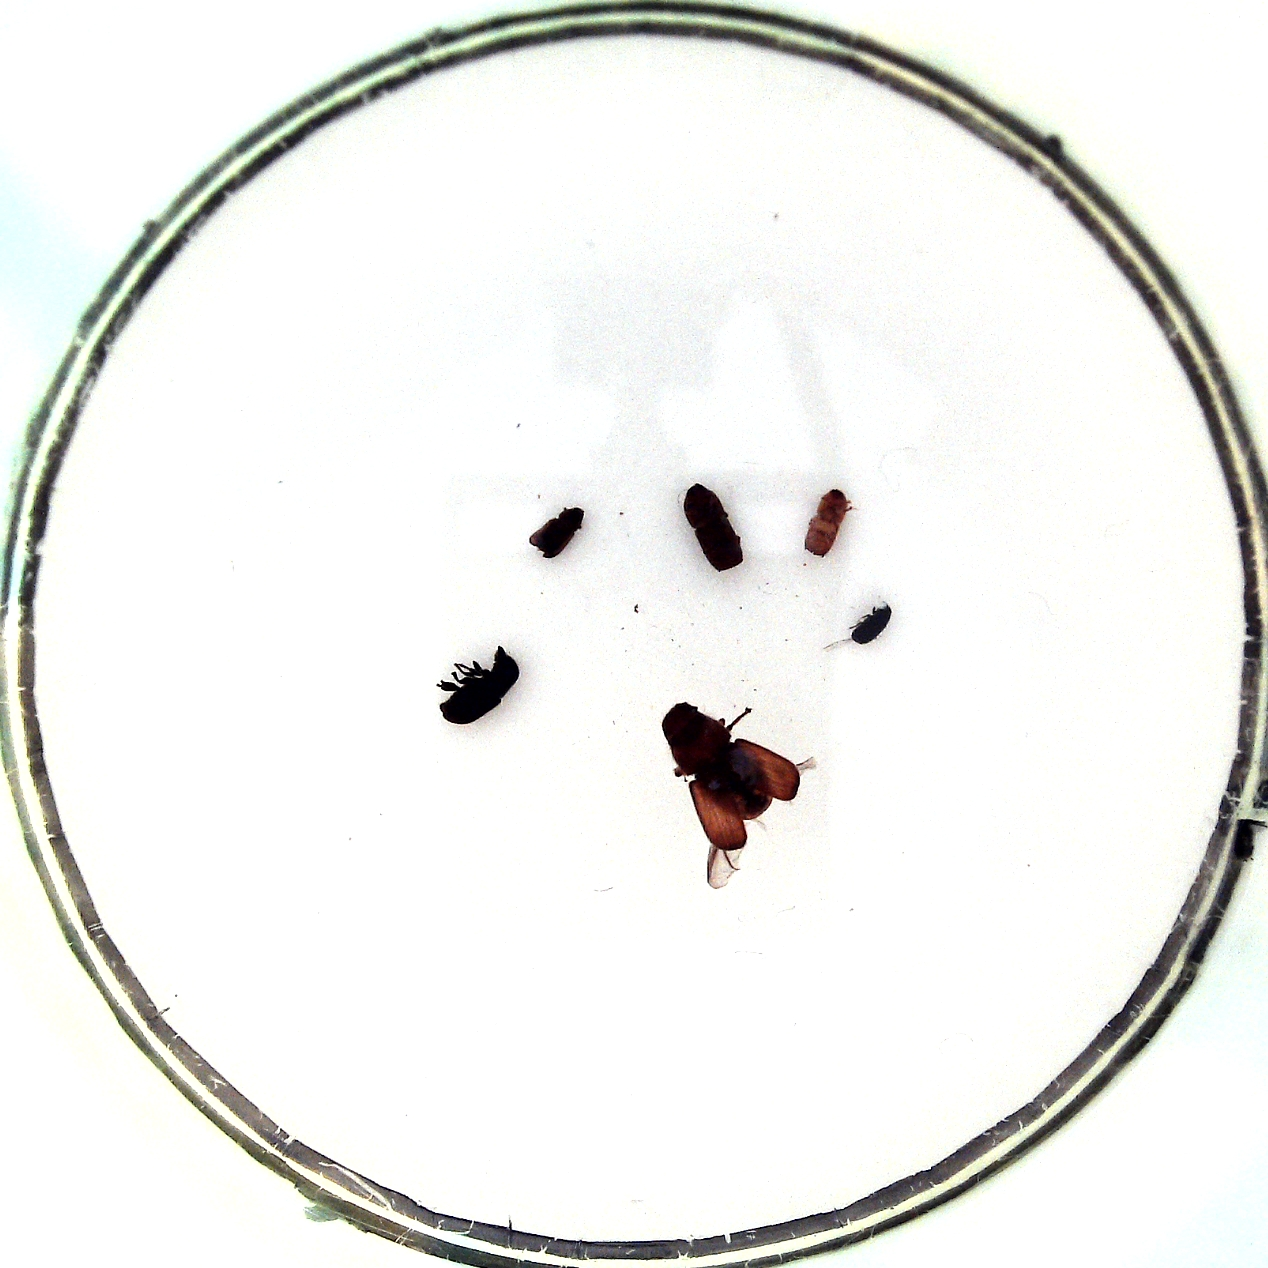Leconte: (661, 703, 775, 822)
acuminatus: (850, 603, 892, 644)
armandi: (440, 644, 519, 725)
coleoptera: (804, 489, 848, 559), (529, 507, 584, 559)
linnaeus: (684, 483, 744, 572)
